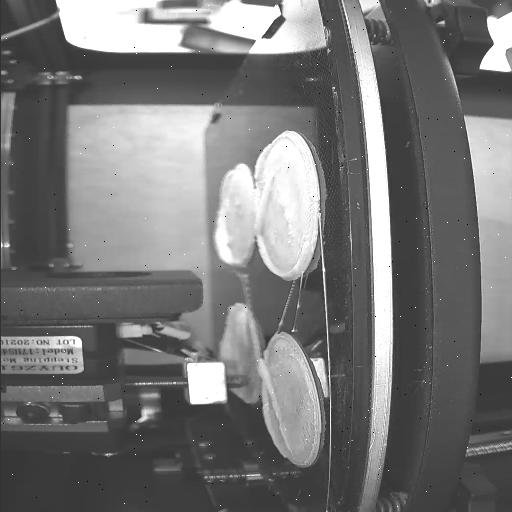over_extrusion: (256, 356, 292, 450), (252, 142, 276, 236), (256, 237, 308, 279), (212, 206, 246, 267), (218, 305, 236, 360), (218, 168, 234, 201)
